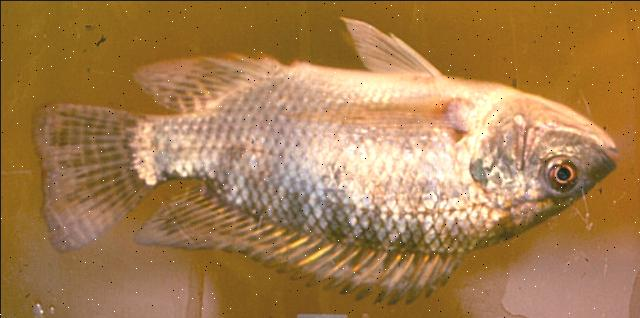Mulut: (586, 128, 632, 182)
Sirip Anal: (124, 50, 268, 117)
Sirip Dada: (276, 94, 470, 148)
Sirip Ekor: (26, 95, 168, 259)
Sirip Perut: (334, 10, 438, 86)
Sirip Punggung: (138, 184, 464, 308)
